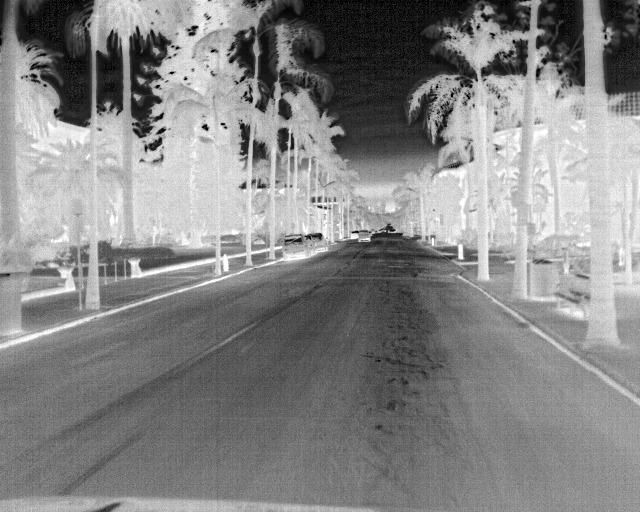car: (282, 233, 311, 263), (307, 233, 328, 253), (357, 226, 372, 241)
